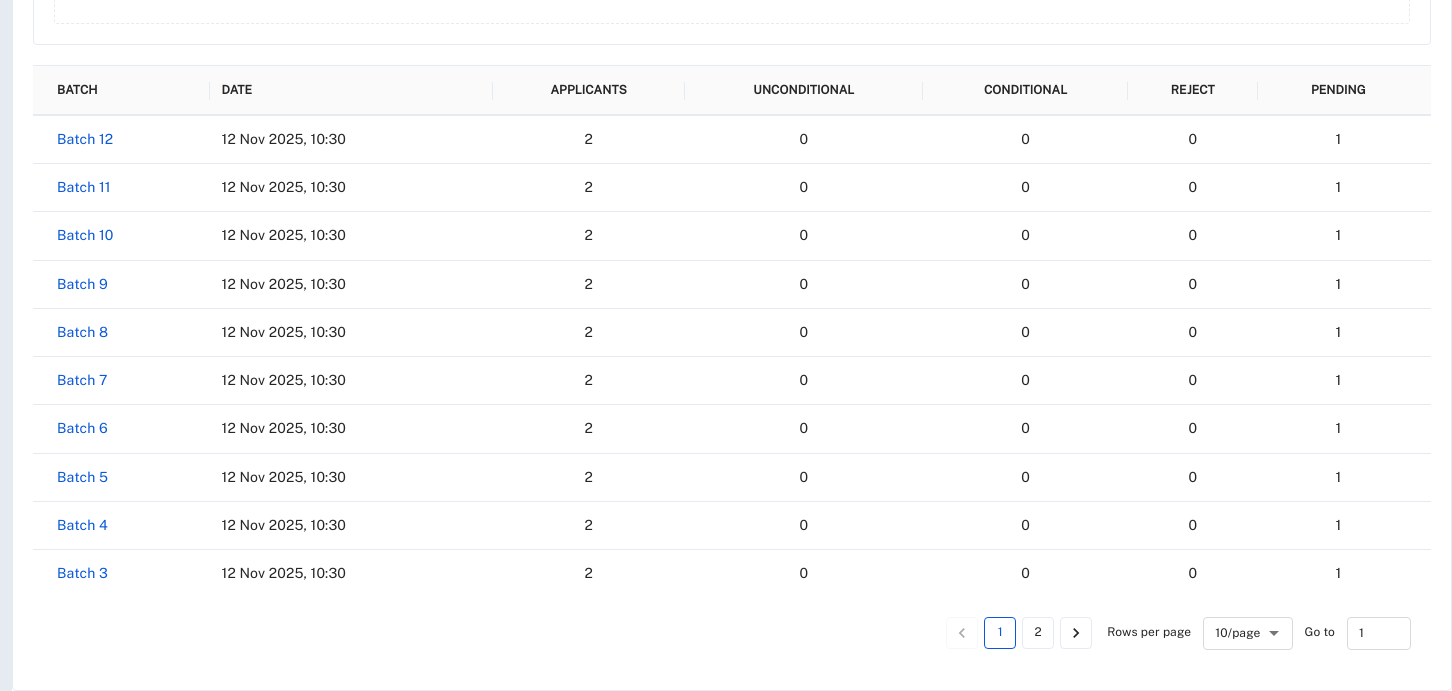
intake upload batches › uses shared pagination and returns to page one when the batch page size changes
(page scrolled)
Check: the link "Batch 12" is shown, box [57,131,113,147]
Click the button named "Go to page 2": (1038, 633) [1022,617,1054,649]
(page scrolled)
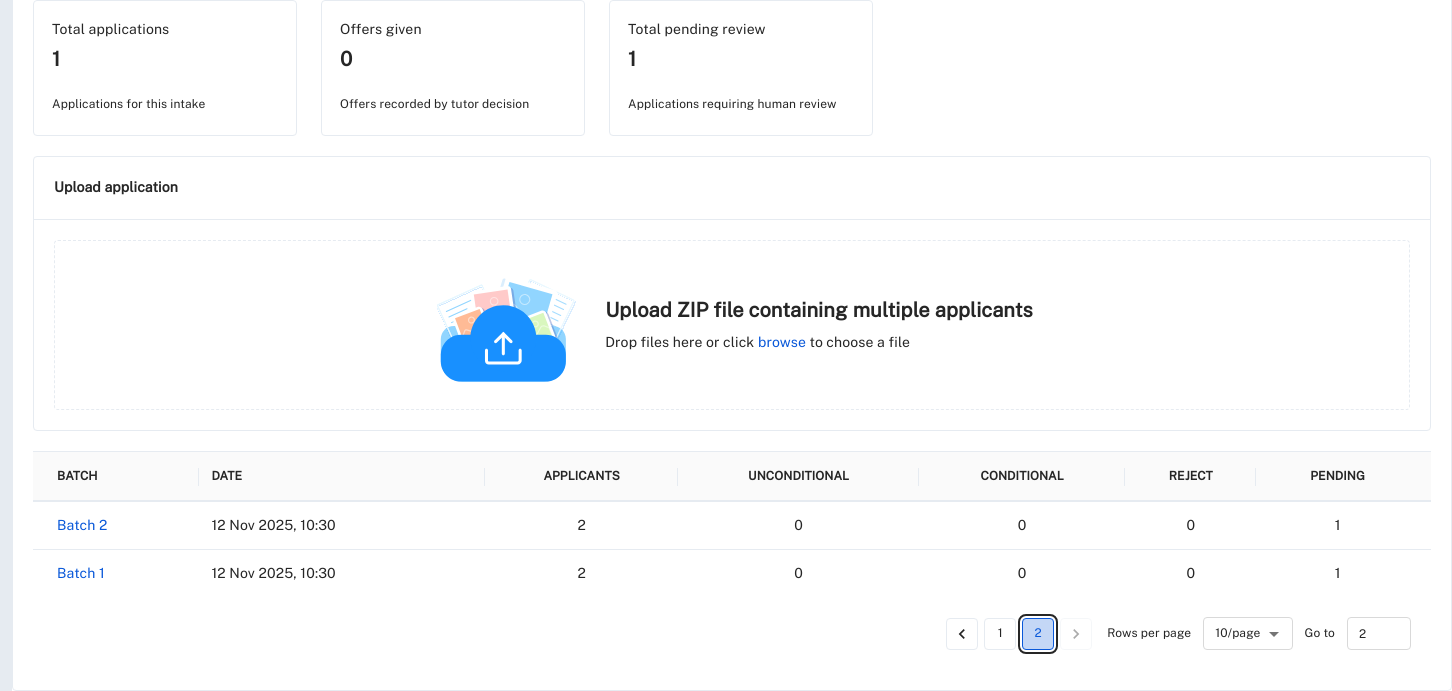
Check: the link "Batch 1" is shown, box [57,565,105,581]
Click the dropdown named "Rows per page": (1238, 633) [1215,626,1261,640]
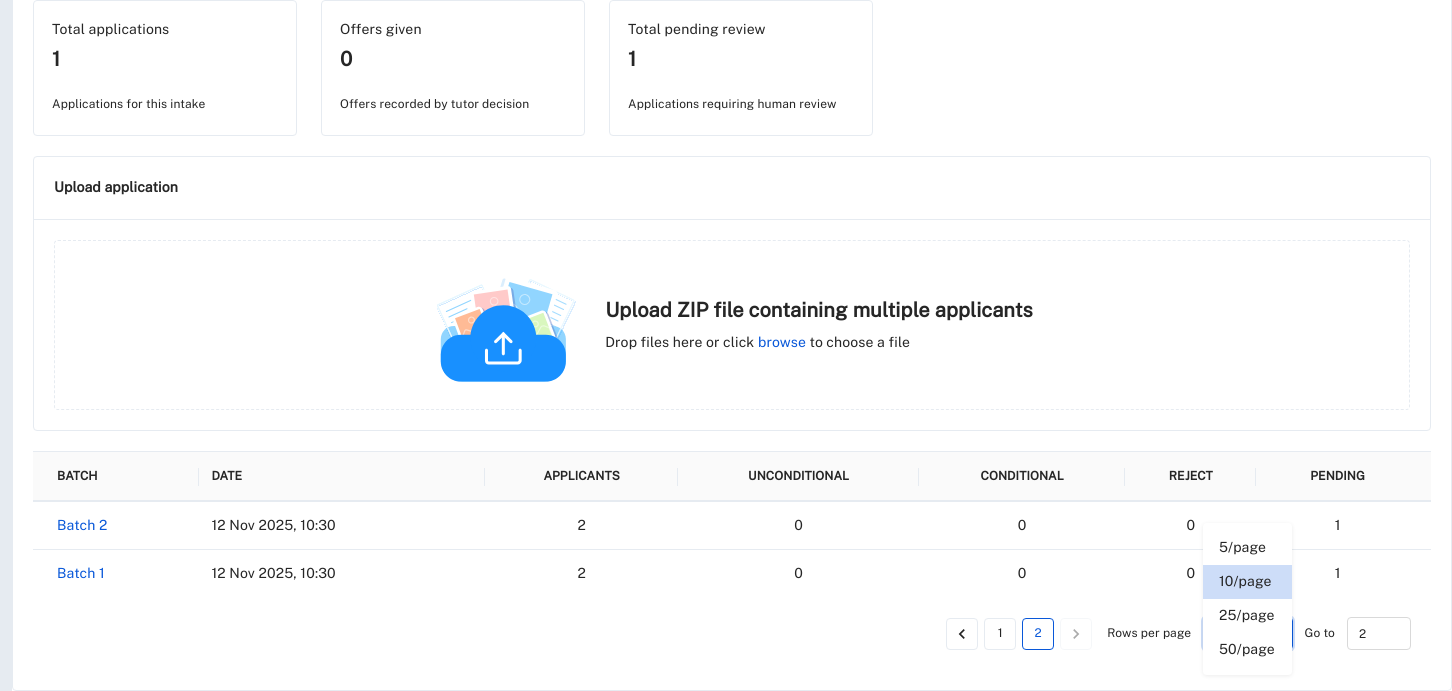
Click the option "25/page": (1247, 615) [1219,607,1275,623]
(page scrolled)
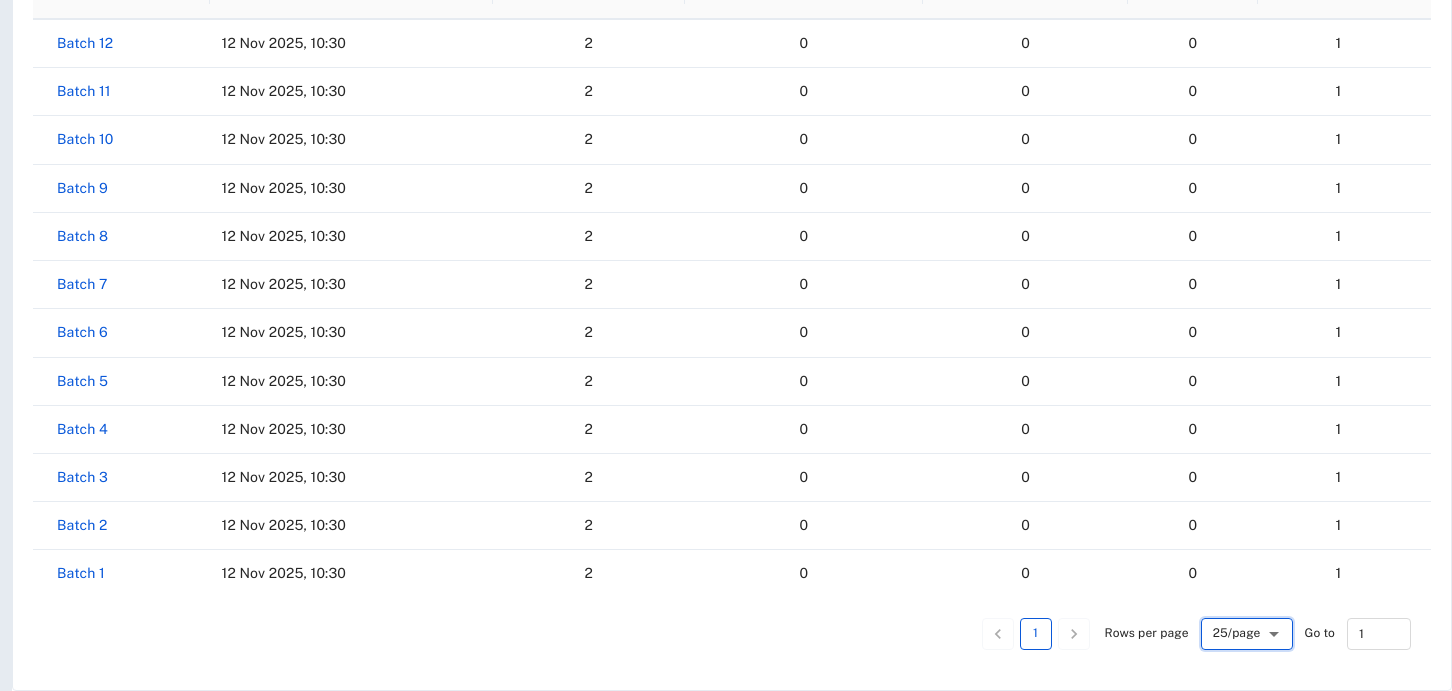
Check: the number field labelled "Go to" holds "1", box [1347,618,1411,650]
Check: the link "Batch 12" is shown, box [57,35,113,51]
